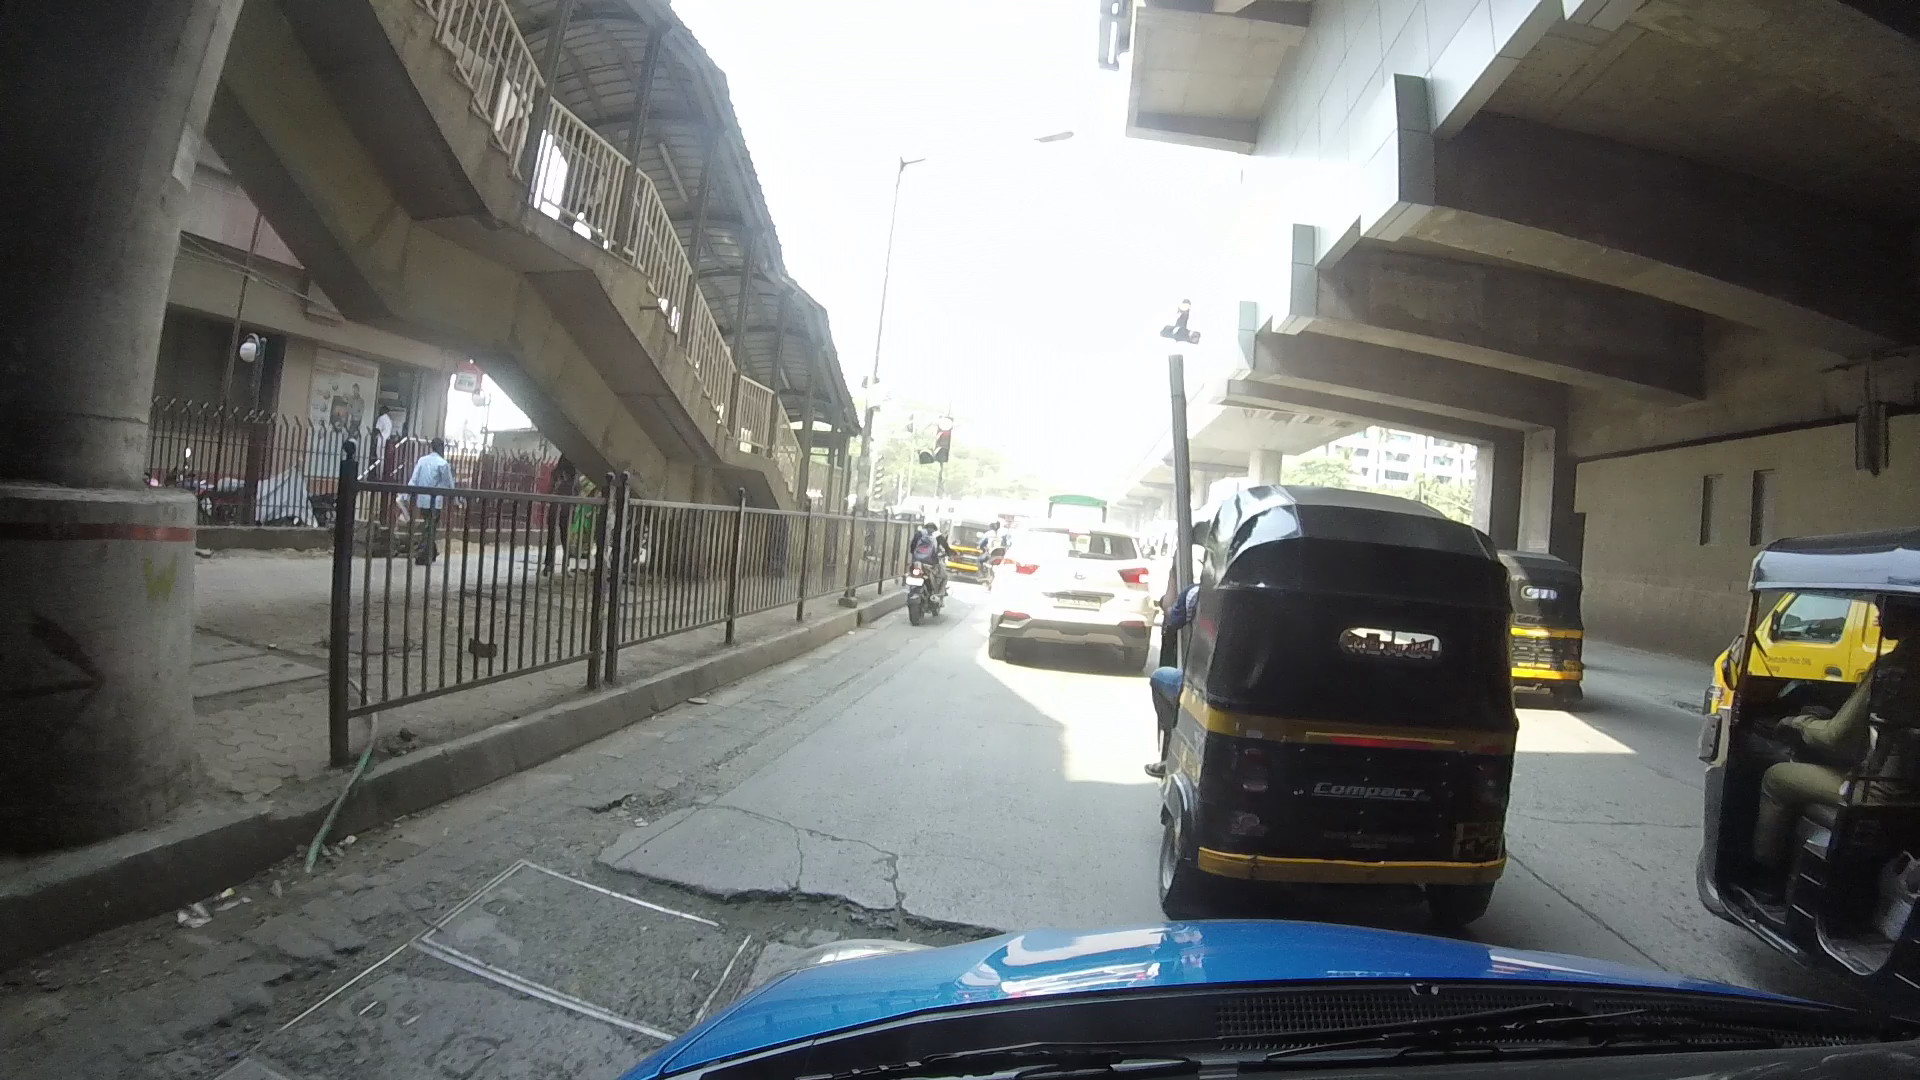bike/scooter: (885, 497, 963, 622)
car: (1677, 566, 1902, 728), (980, 509, 1160, 665)
rickshaw: (1162, 483, 1528, 928), (1702, 525, 1920, 1001), (1490, 545, 1627, 731)
